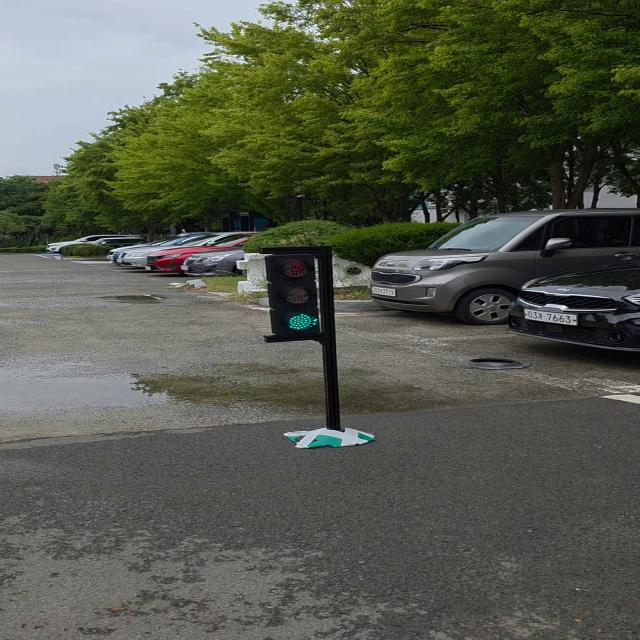green: (268, 251, 335, 342)
